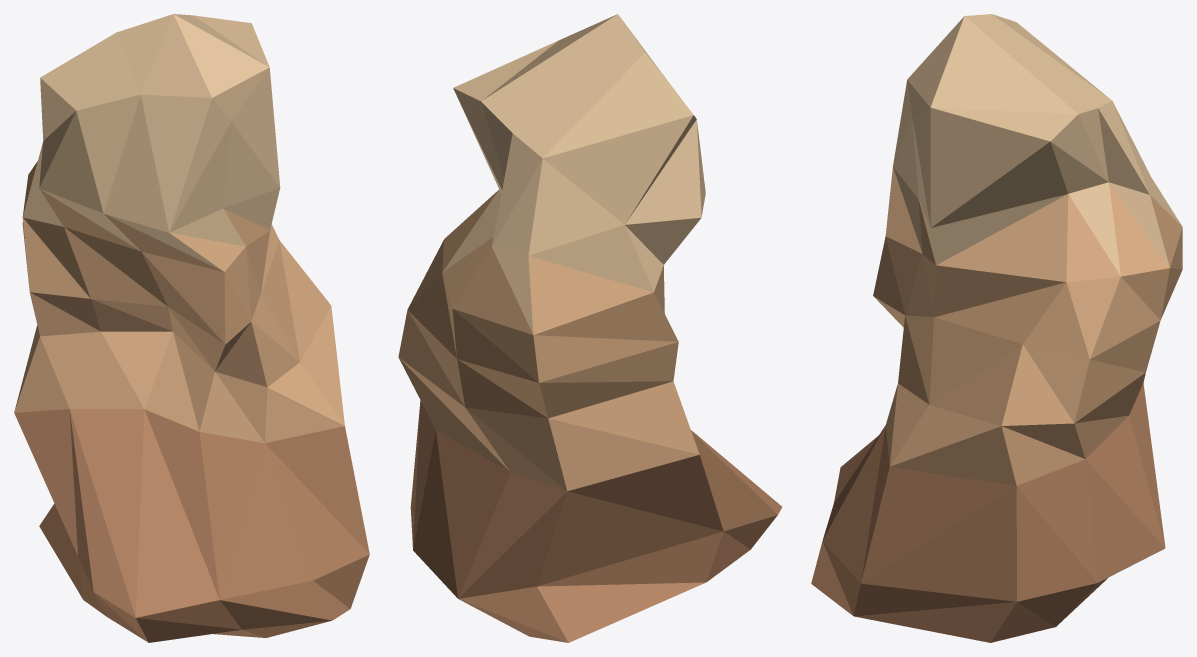
Rendered from canyon-5-3.glb.
The picture shows the model from 3 angles, left to right: view 1: azimuth 30°, elevation 25°; view 2: azimuth 150°, elevation 25°; view 3: azimuth 270°, elevation 25°; orthographic projection. The views are drawn at different scales.
Visible parts, largest first — view 1: canyon-5-3; view 2: canyon-5-3; view 3: canyon-5-3.
Boxes of the visible parts, x1=… form: canyon-5-3: x1=14, y1=14, x2=369, y2=642; canyon-5-3: x1=398, y1=14, x2=782, y2=642; canyon-5-3: x1=811, y1=14, x2=1182, y2=642.
Bounding box in the file's own units: 16.04 × 30 × 17.85.
